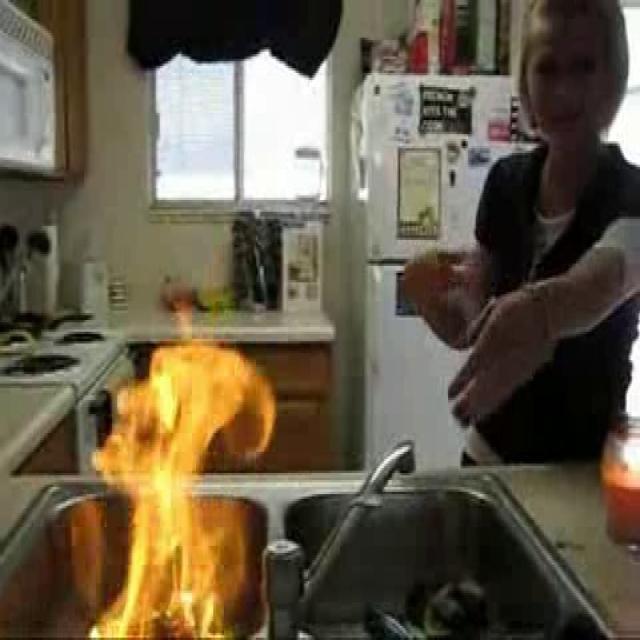Fire: (108, 330, 265, 624)
